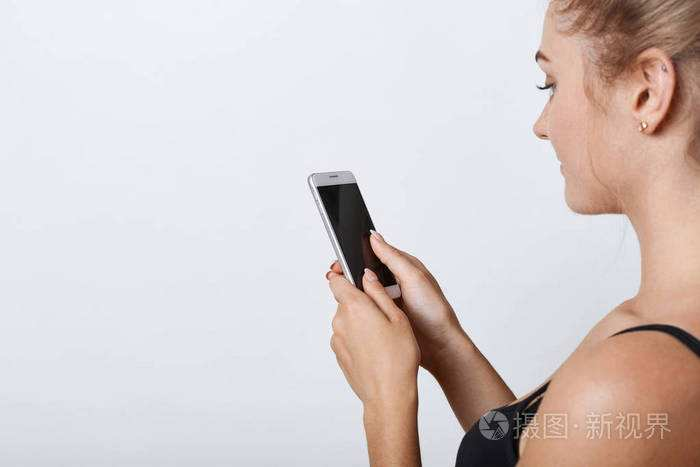reading: (302, 164, 472, 412)
